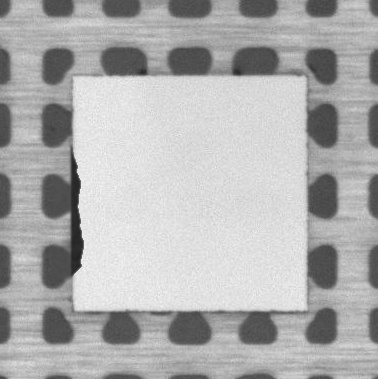DIE_BROKEN: (68, 146, 86, 279)
